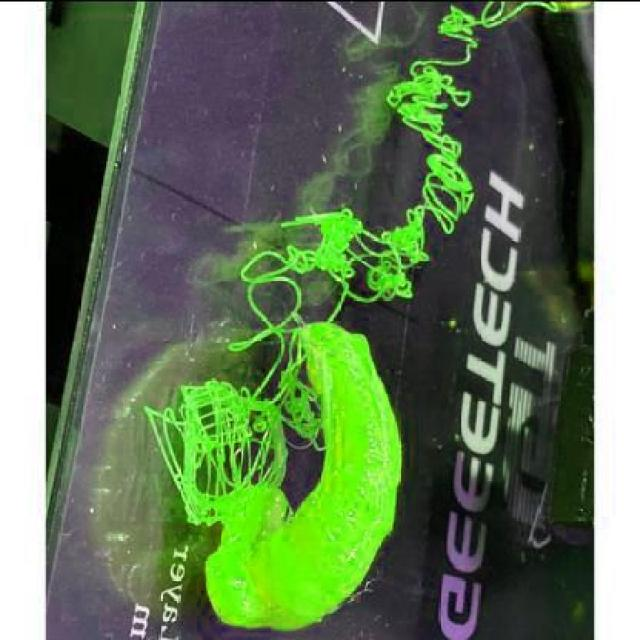Spaghetti: (282, 1, 562, 301), (142, 245, 326, 530)
